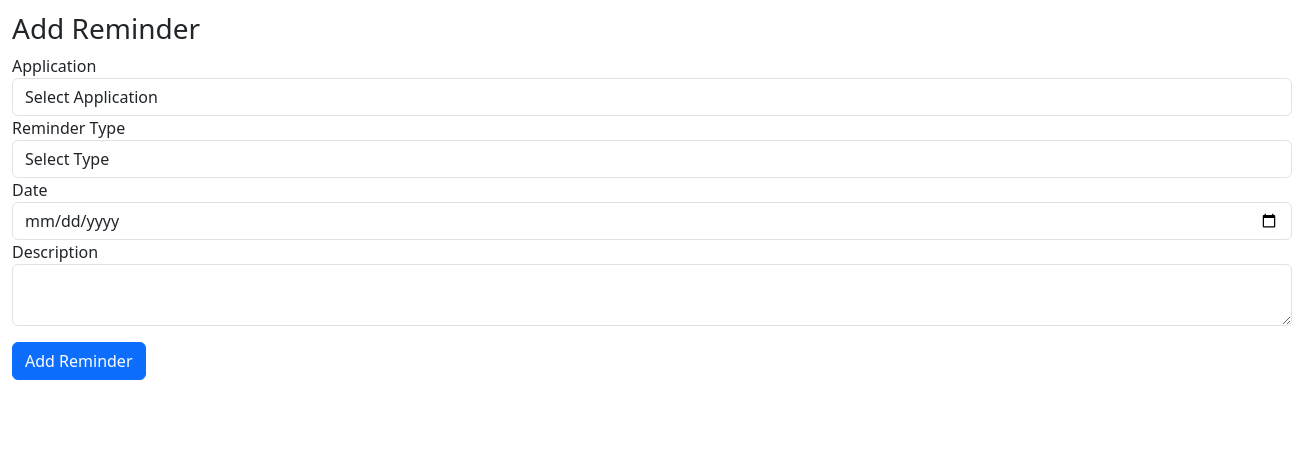
AddReminderForm › handles API errors gracefully
# Fill out form fields
Select "Company A - Developer" in the dropdown labelled "Application" at [652, 97], box [12,78,1292,116]
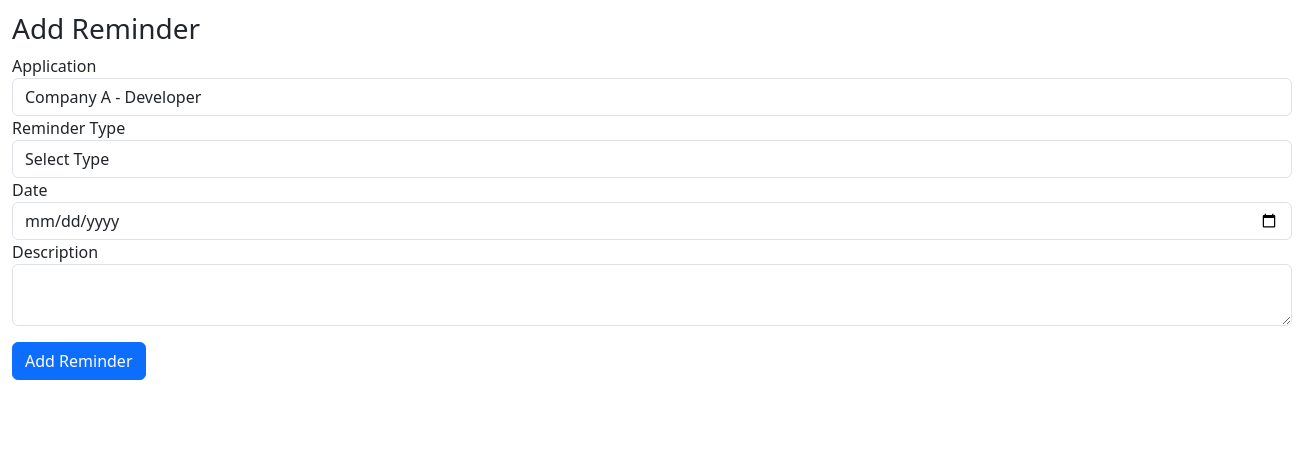
Select "Follow-up" in the dropdown labelled "Reminder Type" at [652, 159], box [12,140,1292,178]
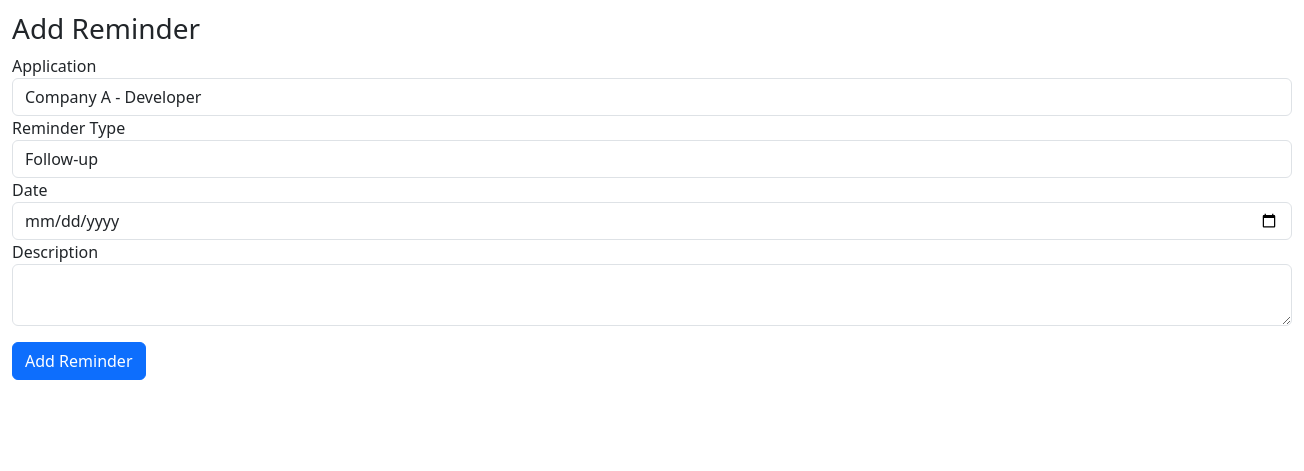
Type "2024-12-20" into the date field labelled "Date" at [652, 221], box [12,202,1292,240]
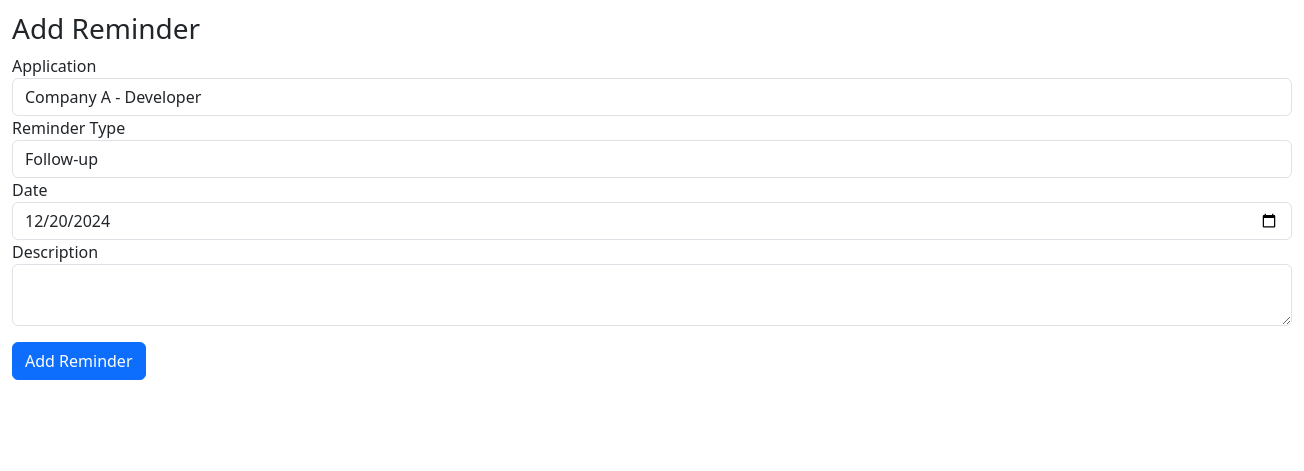
Type "Test description" into the text box labelled "Description" at [652, 295], box [12,264,1292,326]
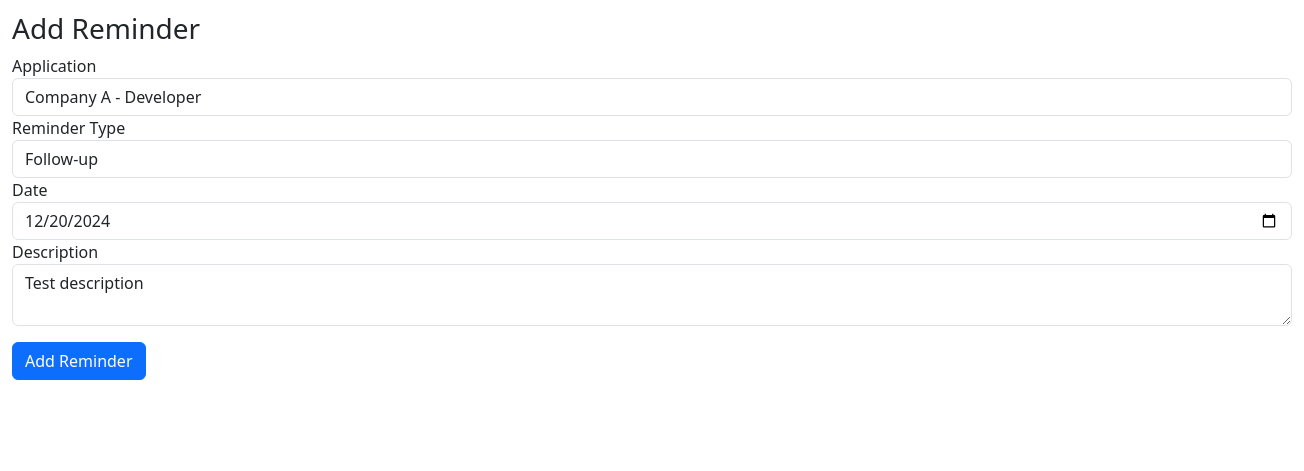
# Submit form
Click the button "Add Reminder" at [79, 361], box [12,342,146,380]
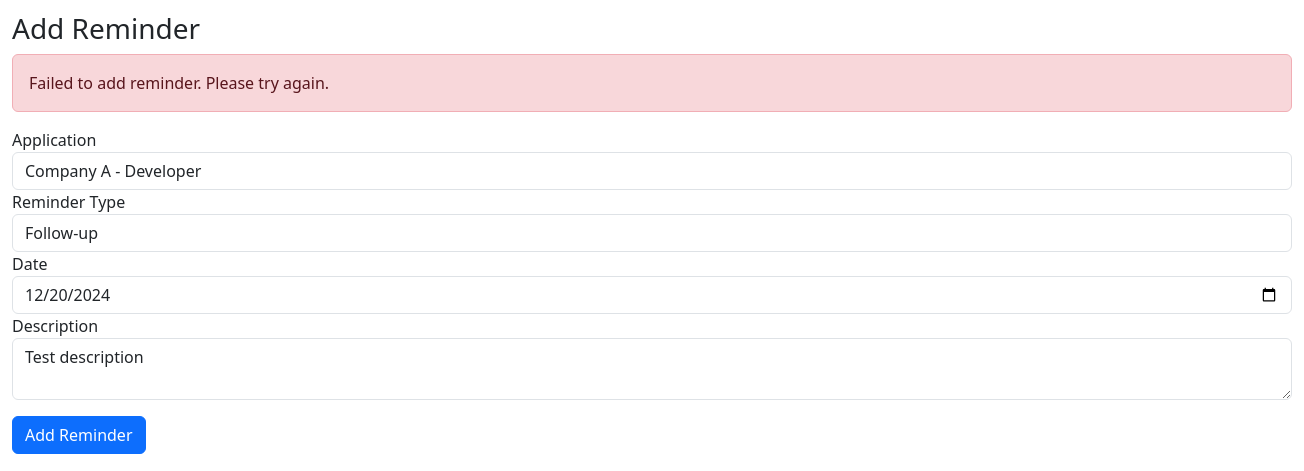
Result: the text "Failed to add reminder. Please try again." is shown at [12,54,1292,112]
